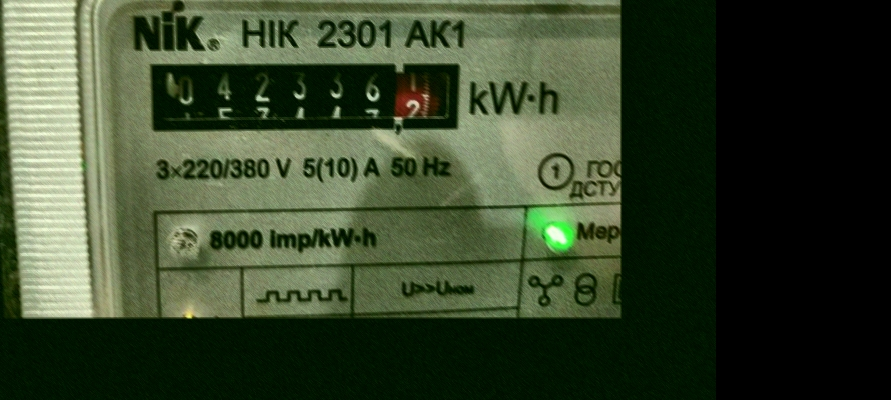0: (174, 72, 193, 105)
1: (404, 66, 416, 92)
2: (250, 68, 271, 102), (401, 97, 418, 118)
3: (287, 67, 305, 99), (326, 67, 343, 99)
4: (214, 68, 231, 100)
6: (361, 69, 381, 103)
screen: (136, 49, 471, 140)
